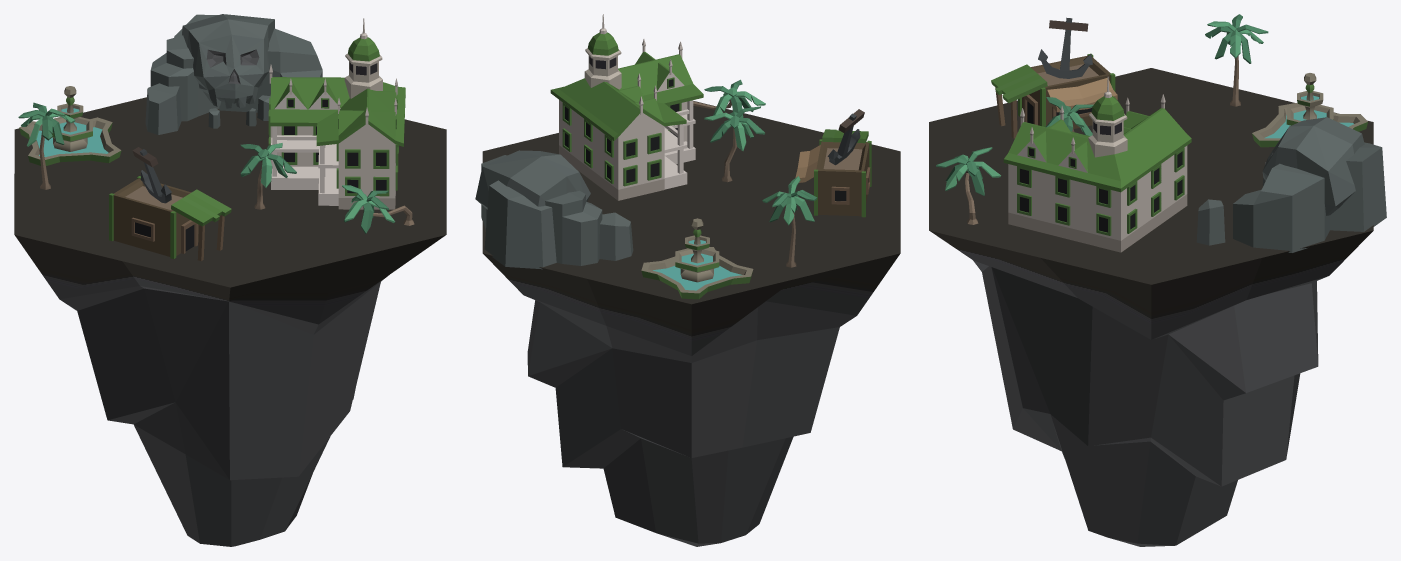
Rendered from smallvallage.glb.
3 renders of one model, left to right at view 1: azimuth 30°, elevation 25°; view 2: azimuth 150°, elevation 25°; view 3: azimuth 270°, elevation 25°, orthographic. The views are drawn at different scales.
Visible parts, largest first — view 1: SM_Tile_Hex_FloatingIsland_01, SM_Bld_Pirate_Mansion_01, SM_Env_Pirate_SkullRock_01, SM_Bld_Pirate_Shack_01, SM_Bld_Pirates_Fountain_01, SM_Env_Pirate_Palm_01, SM_Env_Pirate_Palm_03, SM_Env_Pirate_Palm_02; view 2: SM_Tile_Hex_FloatingIsland_01, SM_Bld_Pirate_Mansion_01, SM_Env_Pirate_SkullRock_01, SM_Bld_Pirate_Shack_01, SM_Bld_Pirates_Fountain_01, SM_Env_Pirate_Palm_01, SM_Env_Pirate_Palm_02, SM_Env_Pirate_Palm_03; view 3: SM_Tile_Hex_FloatingIsland_01, SM_Bld_Pirate_Mansion_01, SM_Env_Pirate_SkullRock_01, SM_Bld_Pirate_Shack_01, SM_Bld_Pirates_Fountain_01, SM_Env_Pirate_Palm_01, SM_Env_Pirate_Palm_03, SM_Env_Pirate_Palm_02.
Boxes of the visible parts, box(x1,y1,x2,y2) form: SM_Tile_Hex_FloatingIsland_01: box(14, 97, 446, 546); SM_Bld_Pirate_Mansion_01: box(268, 18, 405, 209); SM_Env_Pirate_SkullRock_01: box(145, 14, 322, 134); SM_Bld_Pirate_Shack_01: box(109, 147, 231, 261); SM_Bld_Pirates_Fountain_01: box(19, 86, 121, 165); SM_Env_Pirate_Palm_01: box(18, 102, 75, 189); SM_Env_Pirate_Palm_03: box(342, 185, 414, 233); SM_Env_Pirate_Palm_02: box(240, 143, 296, 209); SM_Tile_Hex_FloatingIsland_01: box(482, 101, 900, 546); SM_Bld_Pirate_Mansion_01: box(550, 14, 703, 200); SM_Env_Pirate_SkullRock_01: box(475, 150, 633, 269); SM_Bld_Pirate_Shack_01: box(795, 109, 871, 217); SM_Bld_Pirates_Fountain_01: box(641, 218, 753, 299); SM_Env_Pirate_Palm_01: box(762, 176, 817, 267); SM_Env_Pirate_Palm_02: box(704, 106, 764, 182); SM_Env_Pirate_Palm_03: box(693, 79, 765, 120); SM_Tile_Hex_FloatingIsland_01: box(929, 68, 1373, 546); SM_Bld_Pirate_Mansion_01: box(1003, 76, 1191, 252); SM_Env_Pirate_SkullRock_01: box(1196, 117, 1386, 252); SM_Bld_Pirate_Shack_01: box(991, 17, 1117, 138); SM_Bld_Pirates_Fountain_01: box(1252, 73, 1367, 147); SM_Env_Pirate_Palm_01: box(1205, 14, 1268, 106); SM_Env_Pirate_Palm_03: box(936, 147, 1000, 224); SM_Env_Pirate_Palm_02: box(1045, 97, 1093, 136).
Size of what is drawn, in the model's own units: 5.77 by 6.54 by 5.15.
1 material, 1 textured.
